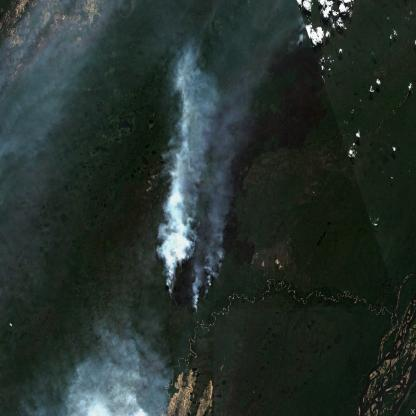fire: (165, 236, 229, 325)
